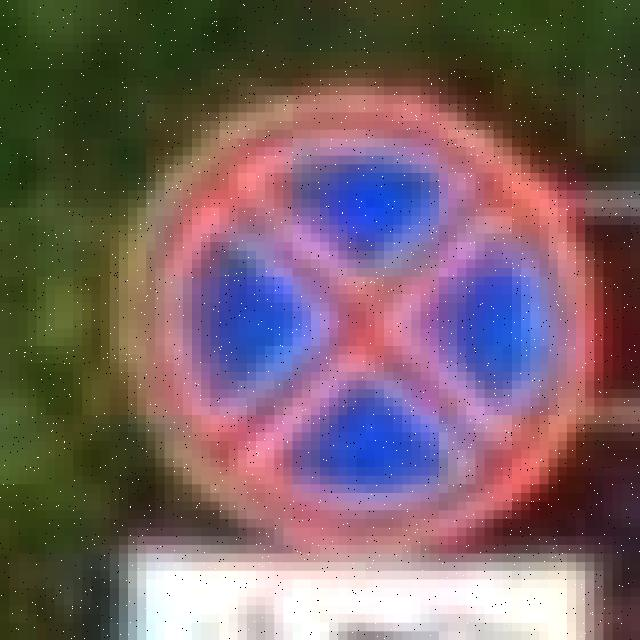Zakaz zatrzymywania sie: (110, 87, 594, 562)
